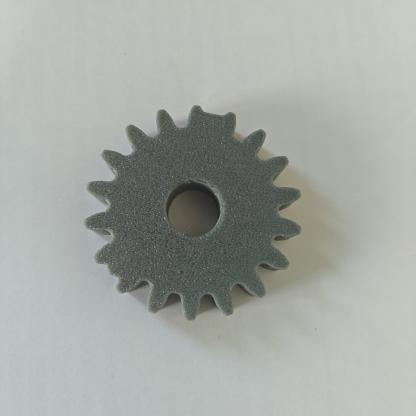defect: (84, 228, 154, 308), (178, 81, 247, 156)
gear: (67, 74, 329, 340)
